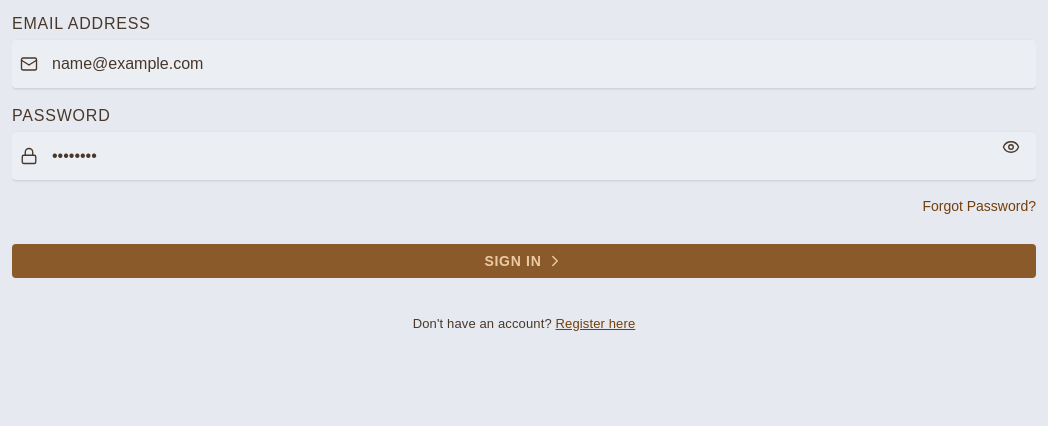
it: LoginForm › rejects empty submit
Click the button "Sign In": (524, 261) [12, 244, 1036, 278]
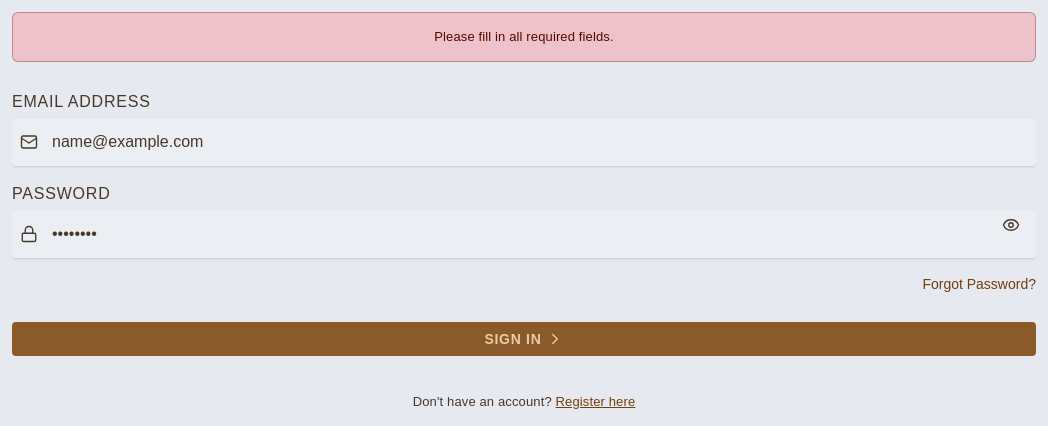
Now the message shows "required fields", box [434, 29, 614, 44]
